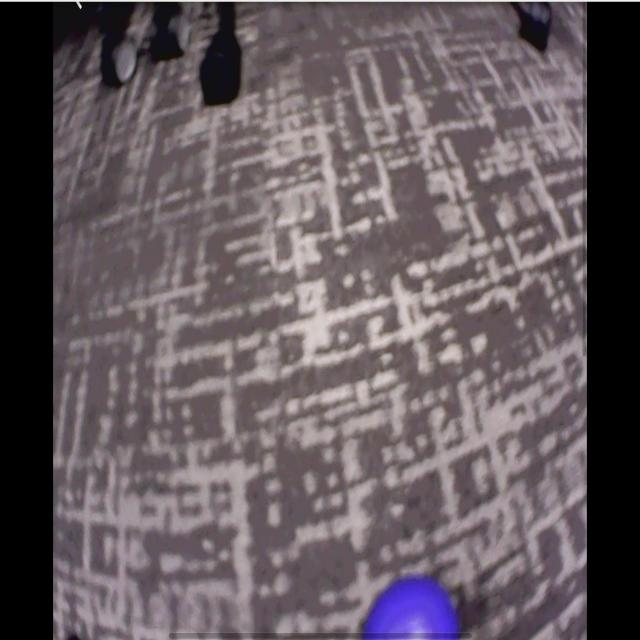ball: (366, 577, 461, 640)
